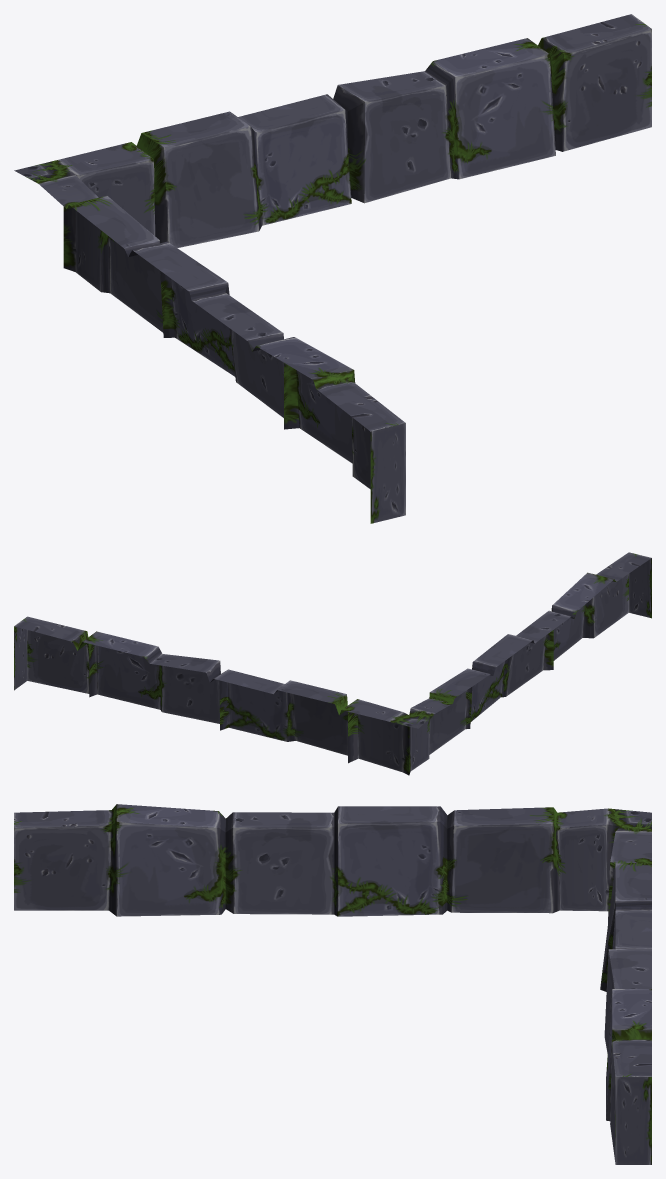
File: MOD_WallTrim_01_E_corner_concave.fbx
3 renders of one model, top to bottom at view 1: azimuth 30°, elevation 25°; view 2: azimuth 150°, elevation 25°; view 3: azimuth 270°, elevation 25°, orthographic. The views are drawn at different scales.
Parts seen in each view (by area): view 1: MOD_WallTrim_01_E_corner_concave; view 2: MOD_WallTrim_01_E_corner_concave; view 3: MOD_WallTrim_01_E_corner_concave.
Part boxes in pixels (<box>): MOD_WallTrim_01_E_corner_concave: <box>14,14,651,523</box>; MOD_WallTrim_01_E_corner_concave: <box>14,552,651,775</box>; MOD_WallTrim_01_E_corner_concave: <box>14,804,651,1164</box>.
Size of what is drawn, in the model's own units: 350 by 55.17 by 350.
